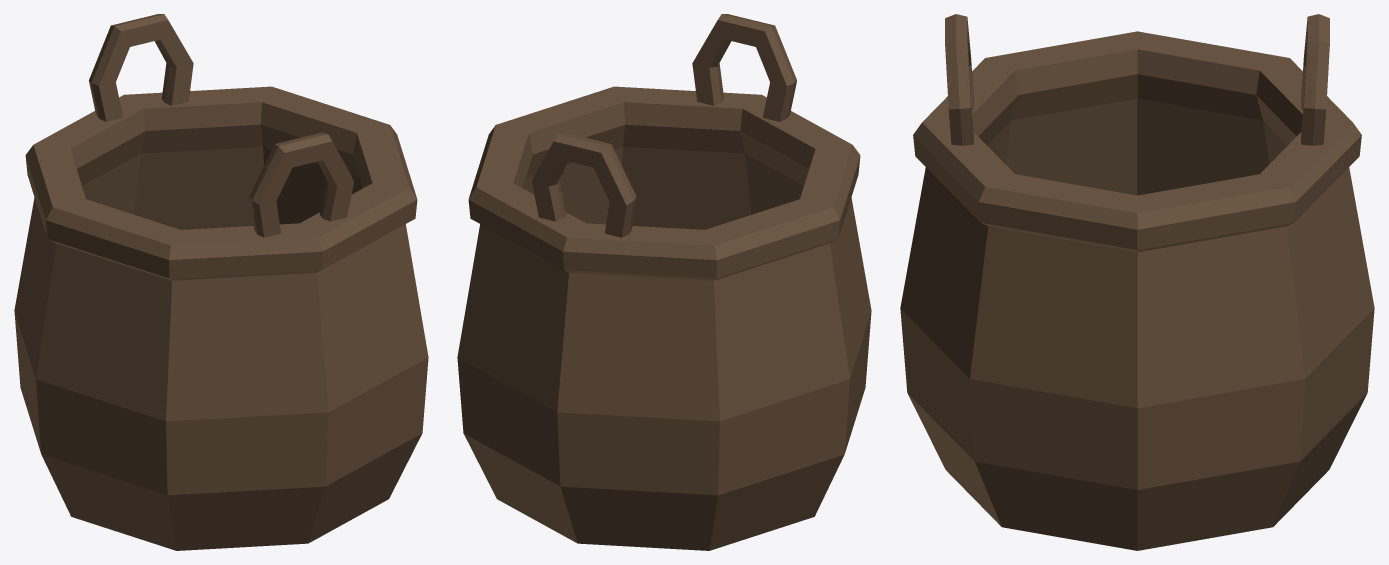
The model's file is Tribal_Plains_Basket_Woven_01.fbx.
The picture shows the model from 3 angles, left to right: view 1: azimuth 30°, elevation 25°; view 2: azimuth 150°, elevation 25°; view 3: azimuth 270°, elevation 25°; orthographic projection. The views are drawn at different scales.
Parts seen in each view (by area): view 1: Tribal_Plains_Basket_Woven_01; view 2: Tribal_Plains_Basket_Woven_01; view 3: Tribal_Plains_Basket_Woven_01.
Part boxes in pixels (x1,y1,x2,y2): Tribal_Plains_Basket_Woven_01: (14, 14, 428, 550); Tribal_Plains_Basket_Woven_01: (457, 14, 871, 550); Tribal_Plains_Basket_Woven_01: (900, 14, 1374, 550).
Size of the model in its own units: 1.1 by 1.13 by 1.1.
